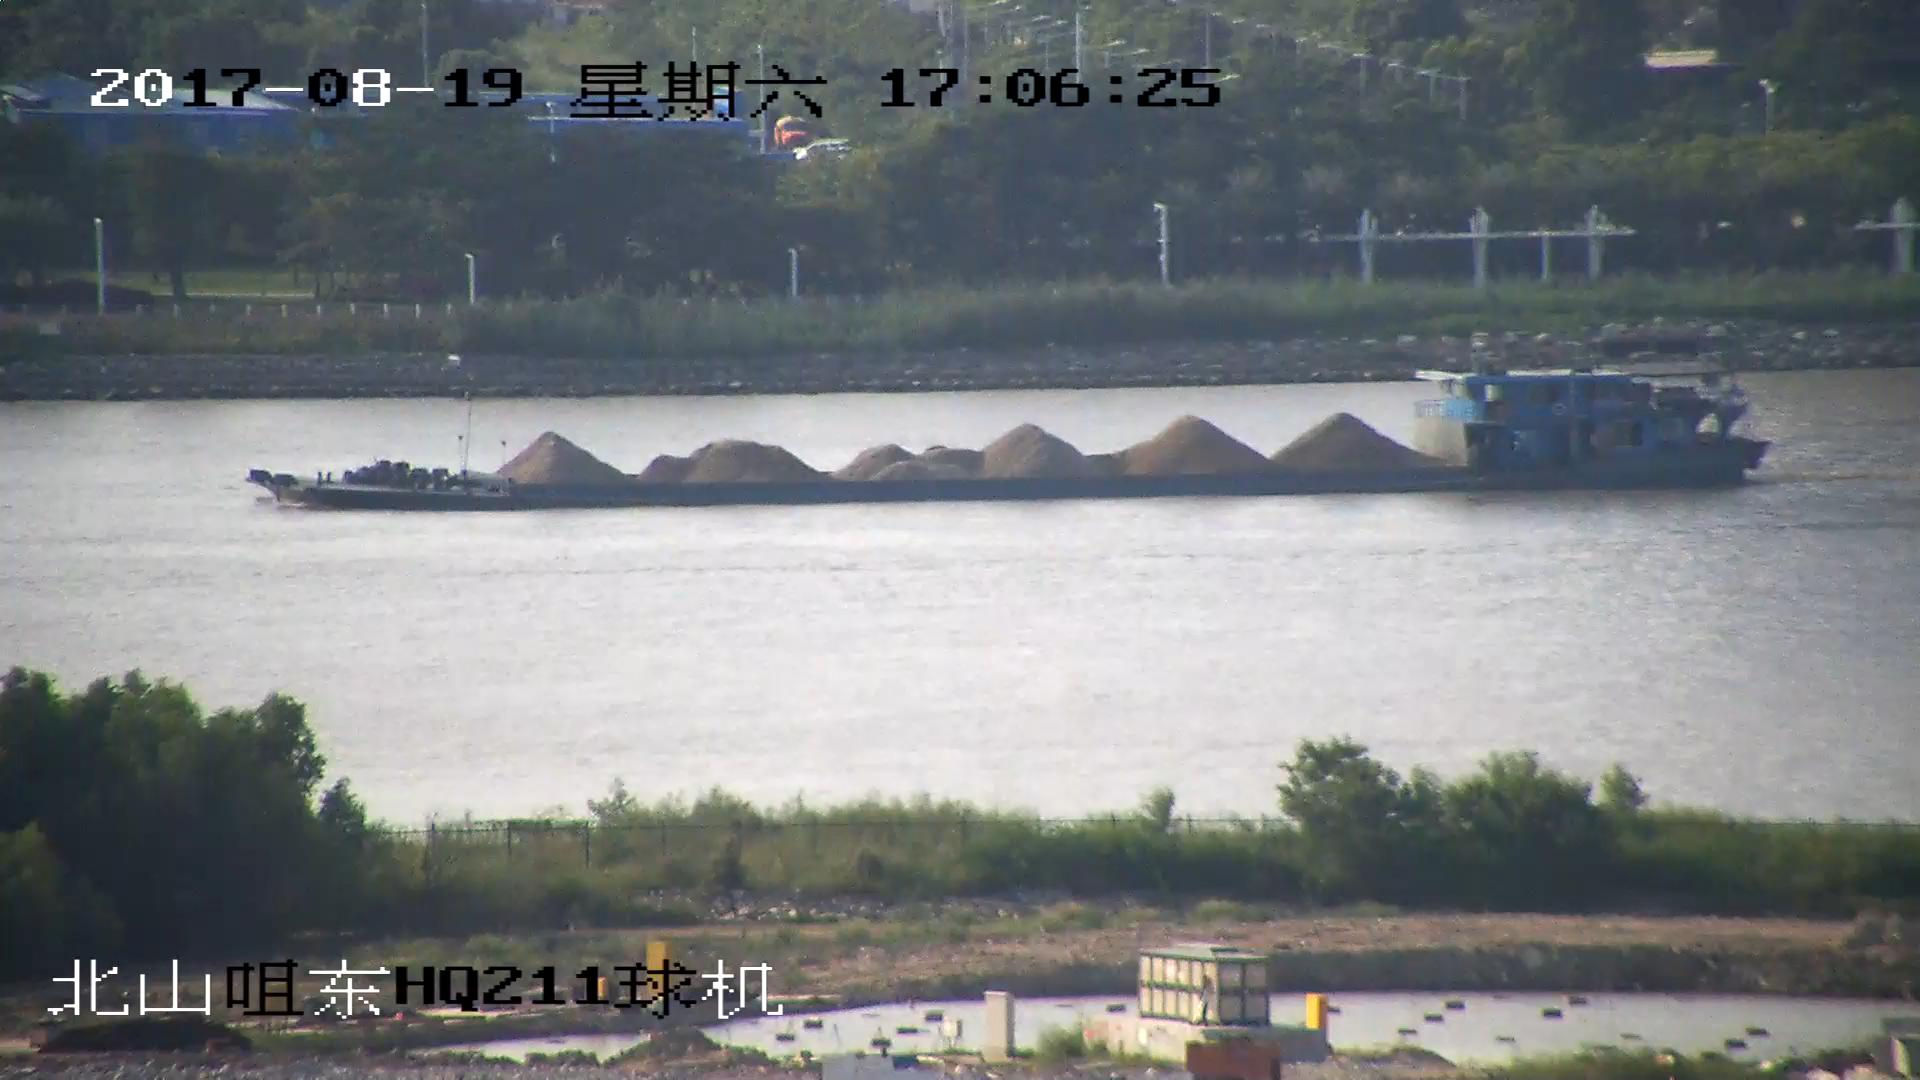ore carrier: (244, 362, 1774, 508)
